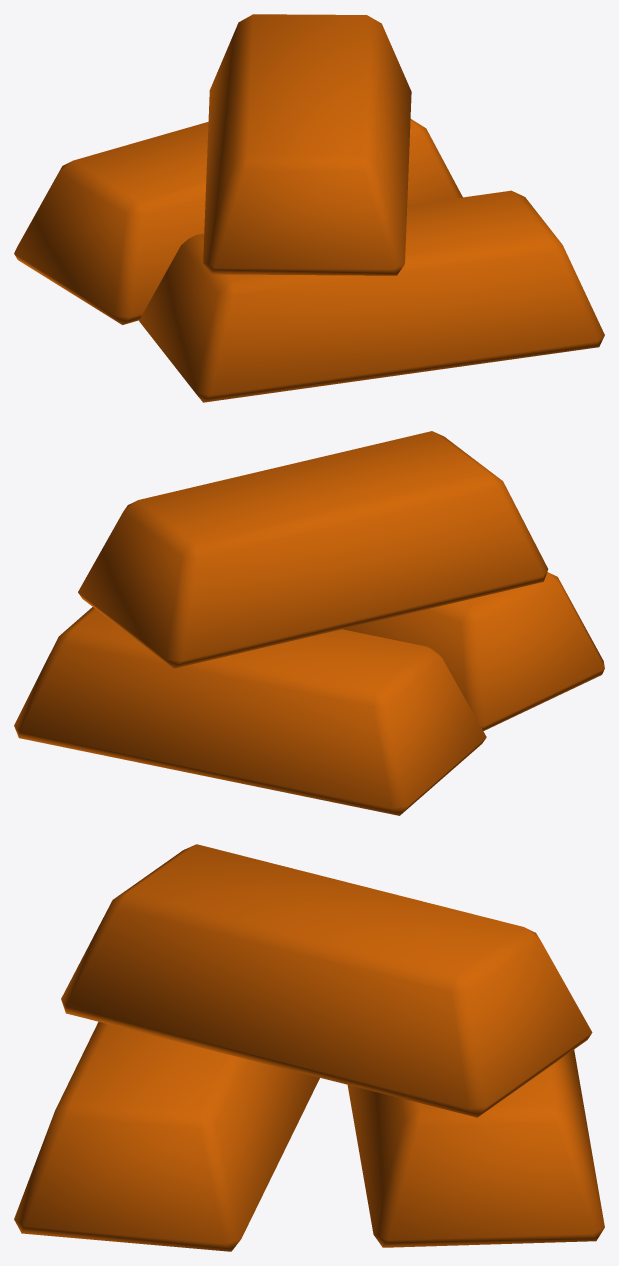
The model's file is SRA_Metal_Copper_Ingot_Stack_02.glb.
3 renders of one model, top to bottom at view 1: azimuth 30°, elevation 25°; view 2: azimuth 150°, elevation 25°; view 3: azimuth 270°, elevation 25°, orthographic. The views are drawn at different scales.
Parts seen in each view (by area): view 1: Metal_Copper_Ingot_Stack_02; view 2: Metal_Copper_Ingot_Stack_02; view 3: Metal_Copper_Ingot_Stack_02.
Boxes of the visible parts, x1,y1,x2,y2 form: Metal_Copper_Ingot_Stack_02: (14,14,604,402); Metal_Copper_Ingot_Stack_02: (14,431,604,815); Metal_Copper_Ingot_Stack_02: (14,844,604,1251).
Bounding box in the file's own units: 0.4509 × 0.2214 × 0.5049.
Materials: 1 (1 with a texture image).
